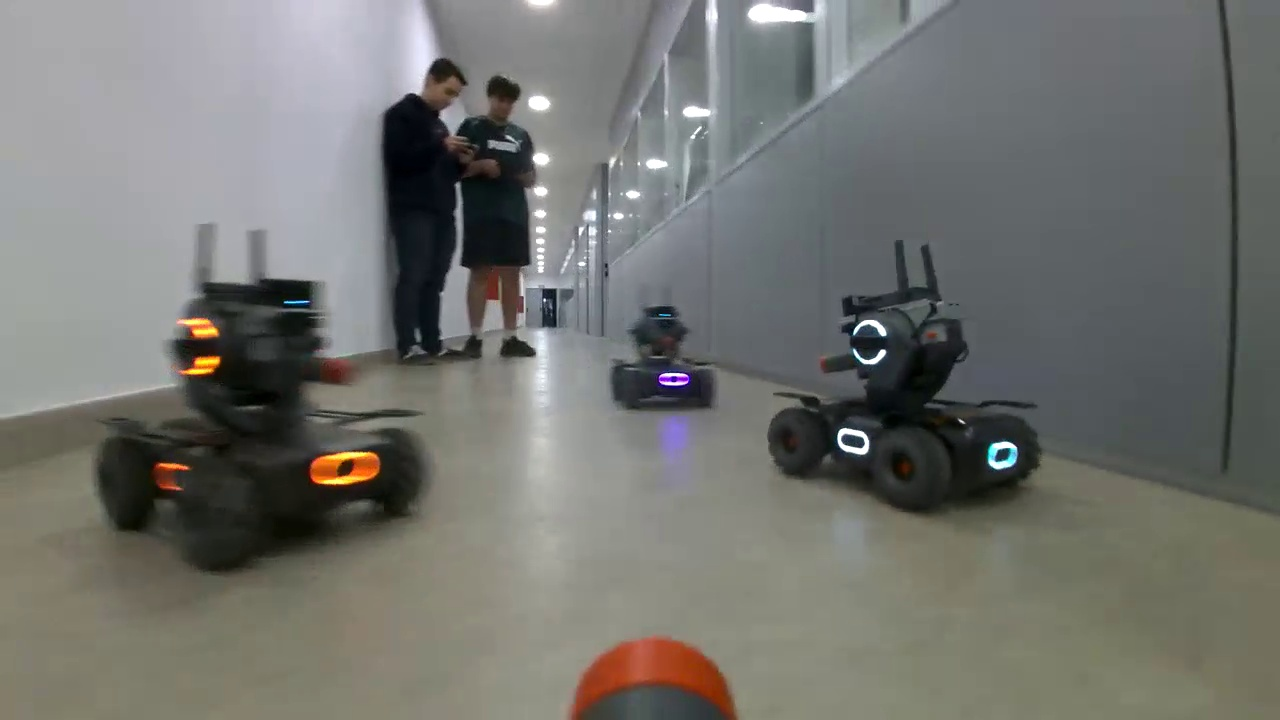robot: (94, 283, 440, 578), (765, 285, 1047, 516), (607, 305, 718, 411)
